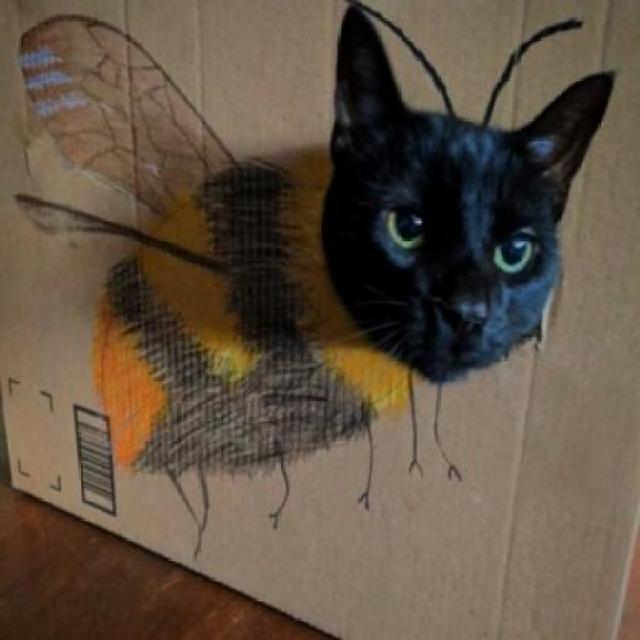cat: (294, 26, 624, 386)
